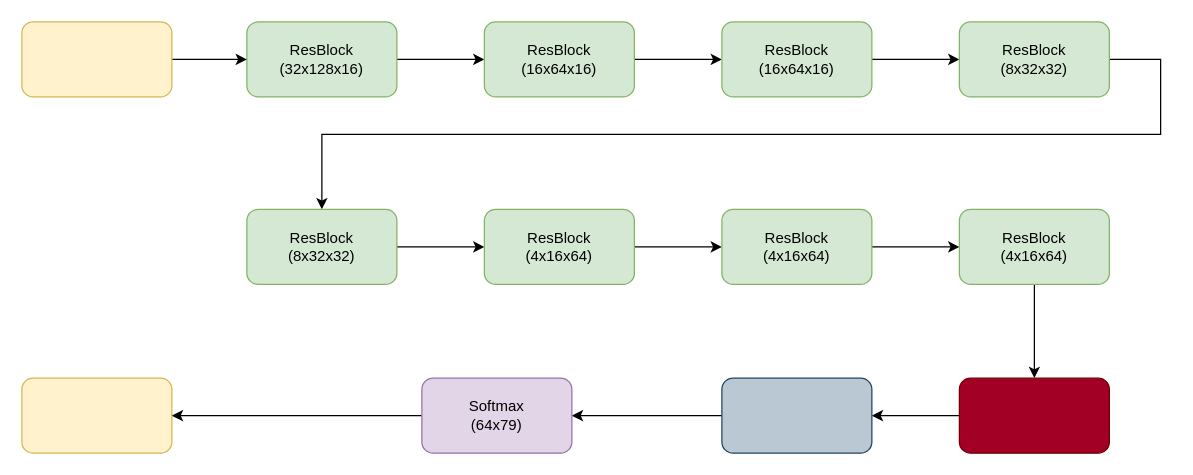
Some shapes in this 1193 by 475 pixel diagram are drawn without their labels. The box of each missing label's shape, as (x1, y1, x2, y2) in pixels:
Bidirectional-LSTM (128 units): (721, 377, 872, 453)
Input (32x128x3): (21, 21, 172, 97)
Output (64x79): (21, 377, 172, 453)
Reshape (64x64): (958, 377, 1109, 453)
